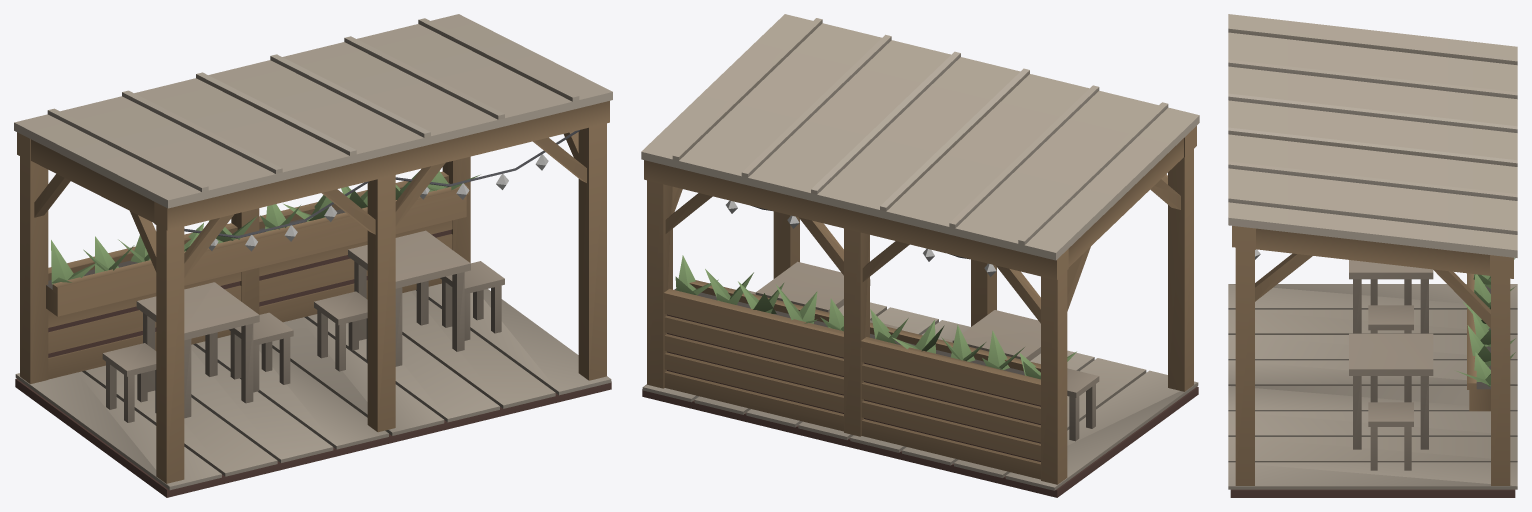
Rendered from dining.glb.
3 views of the same model, side by side, from view 1: azimuth 30°, elevation 25°; view 2: azimuth 150°, elevation 25°; view 3: azimuth 270°, elevation 25° (orthographic). The views are drawn at different scales.
Parts seen in each view (by area): view 1: dining; view 2: dining; view 3: dining.
Part boxes in pixels (box(x1,y1,x2,y2)): dining: box(14, 14, 612, 497); dining: box(641, 14, 1199, 497); dining: box(1228, 14, 1517, 497).
Bounding box in the file's own units: 4 × 2.6 × 2.4.
